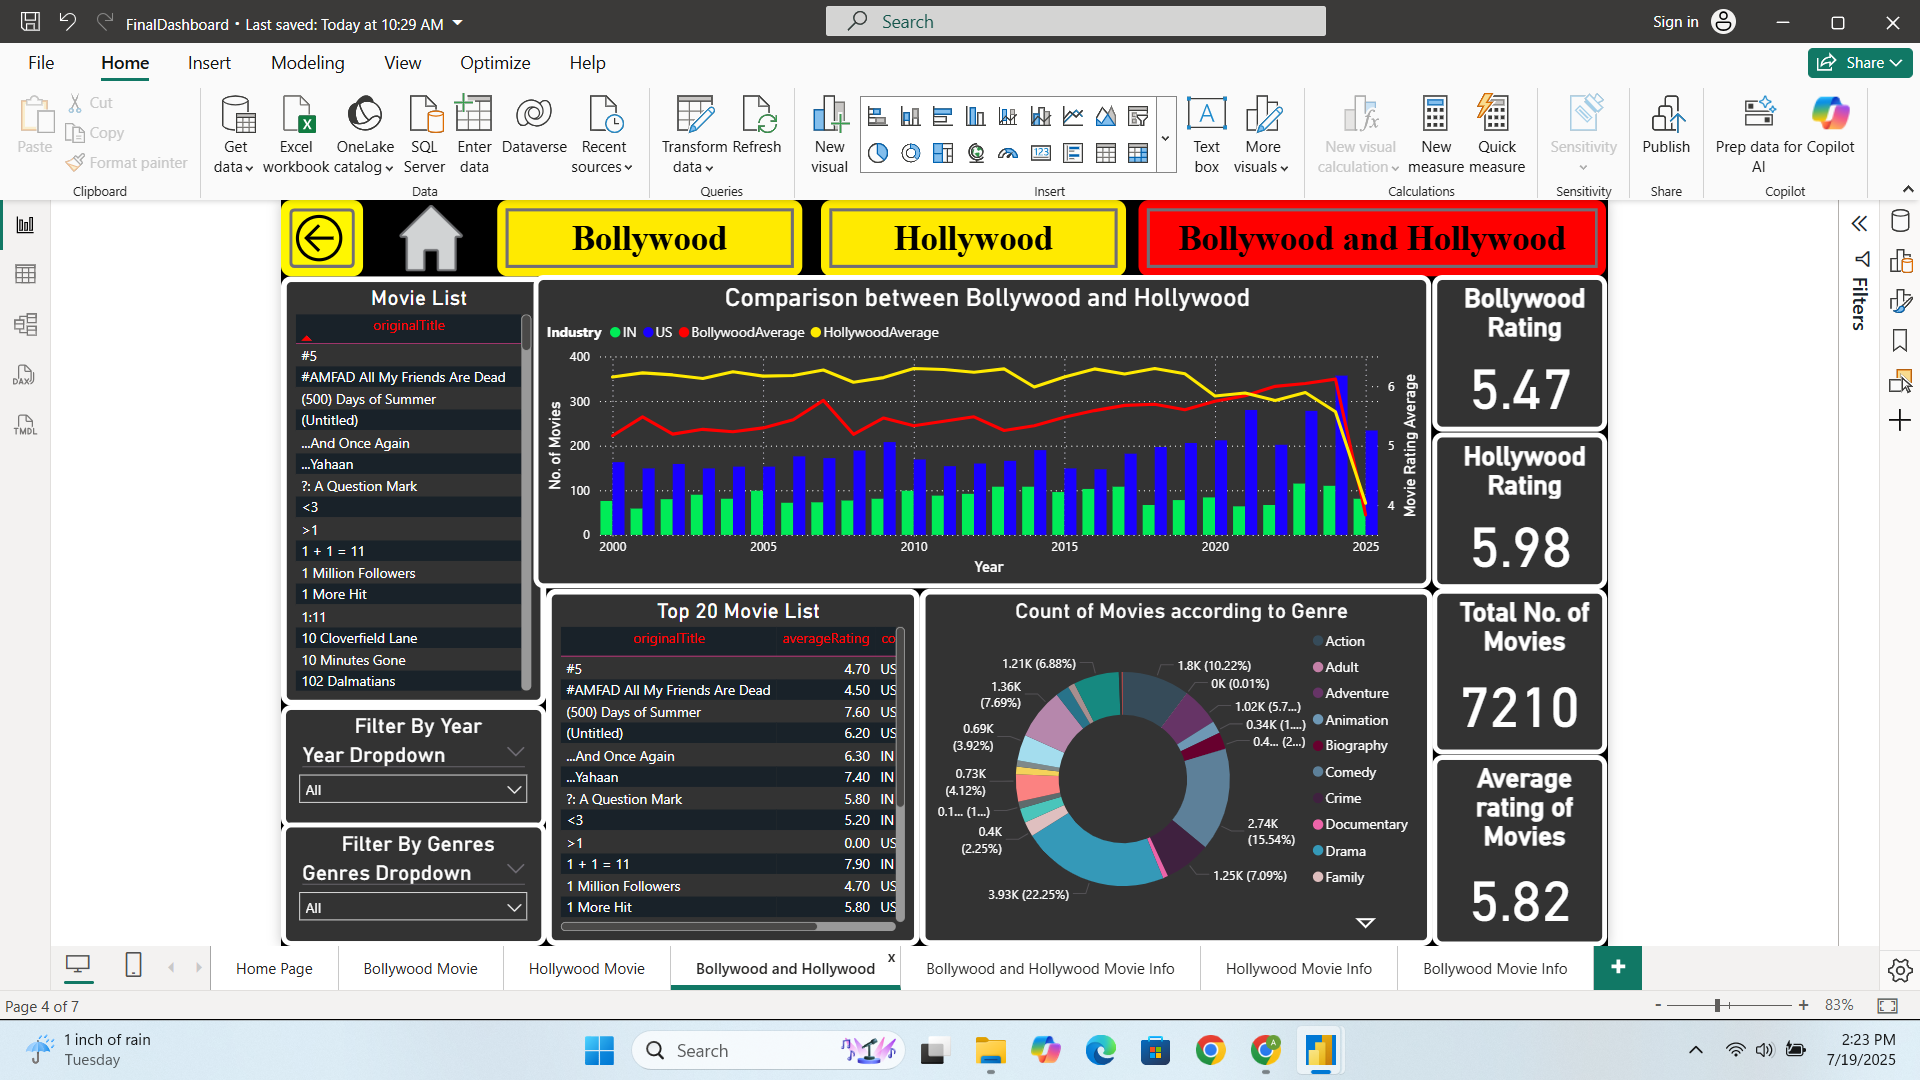

This screenshot's page, from the dashboard's own definition file:
{"tool":"powerbi","page":{"name":"Bollywood and Hollywood","canvas":[1280,720],"ordinal":3},"visuals":[{"type":"card","title":"Total No. of Movies","fields":{"Values":["CountNonNull(BothTable.tconst)"]},"box":[1110.9,375.1,168.8,160.1],"z":0},{"type":"card","title":"Average rating of Movies","fields":{"Values":["BothTable.BothRating"]},"box":[1110.9,535.3,168.8,184.7],"z":1000},{"type":"donutChart","title":"Count of Movies according to Genre","fields":{"Y":["CountNonNull(BothTableGenre.tconst)"],"Category":["BothTableGenre.Genre"]},"box":[616.1,375.1,494.9,344.8],"z":2000},{"type":"slicer","title":"Filter By Year","fields":{"Values":["BothTable.startYear"]},"box":[0,487.7,255.6,119.2],"z":3000},{"type":"slicer","title":"Filter By Genres","fields":{"Values":["BothTableGenre.Genre"]},"box":[0,600.6,255.6,119.2],"z":4000},{"type":"tableEx","title":"Movie List","fields":{"Values":["BothTable.originalTitle"]},"box":[0,73.7,255.6,414],"z":5000},{"type":"tableEx","title":"Top 20 Movie List","fields":{"Values":["BothTable.originalTitle","BothTable.averageRating","BothTable.country","BothTable.startYear"]},"box":[255.6,374.8,360.7,345],"z":6000},{"type":"actionButton","box":[209.2,0,294.3,73.6],"z":7000},{"type":"actionButton","box":[520.8,0,294.3,73.6],"z":8000},{"type":"actionButton","box":[828.1,0,451.6,73.6],"z":9000},{"type":"actionButton","box":[0,0,79.4,73.6],"z":10000},{"type":"lineClusteredColumnComboChart","title":"Comparison between Bollywood and Hollywood","fields":{"Category":["BothTable.startYear"],"Series":["BothTable.country"],"Y":["CountNonNull(BothTable.tconst)"],"Y2":["BothTable.BollywoodAverage","BothTable.HollywoodAverage"]},"box":[243.8,73,866.8,302.6],"z":11000},{"type":"card","title":"Bollywood Rating","fields":{"Values":["BothTable.BollywoodAverage"]},"box":[1110.6,73,169.1,151.3],"z":12000},{"type":"card","title":"Hollywood Rating","fields":{"Values":["BothTable.HollywoodAverage"]},"box":[1110.6,224.3,169.1,151.3],"z":13000},{"type":"image","box":[90.9,0,108.2,73.6],"z":13001}]}

Visuals, with their boxes on the page's 1280x720 design canvas (x1, y1, x2, y2). These are canvas units, not pixel positions in the 1920x1080 screenshot, which may show the page scaled, cropped or inside an application window:
"Total No. of Movies" card: region(1111, 375, 1280, 535)
"Average rating of Movies" card: region(1111, 535, 1280, 720)
"Count of Movies according to Genre" donutChart: region(616, 375, 1111, 720)
"Filter By Year" slicer: region(0, 488, 256, 607)
"Filter By Genres" slicer: region(0, 601, 256, 720)
"Movie List" tableEx: region(0, 74, 256, 488)
"Top 20 Movie List" tableEx: region(256, 375, 616, 720)
actionButton: region(209, 0, 504, 74)
actionButton: region(521, 0, 815, 74)
actionButton: region(828, 0, 1280, 74)
actionButton: region(0, 0, 79, 74)
"Comparison between Bollywood and Hollywood" lineClusteredColumnComboChart: region(244, 73, 1111, 376)
"Bollywood Rating" card: region(1111, 73, 1280, 224)
"Hollywood Rating" card: region(1111, 224, 1280, 376)
image: region(91, 0, 199, 74)
